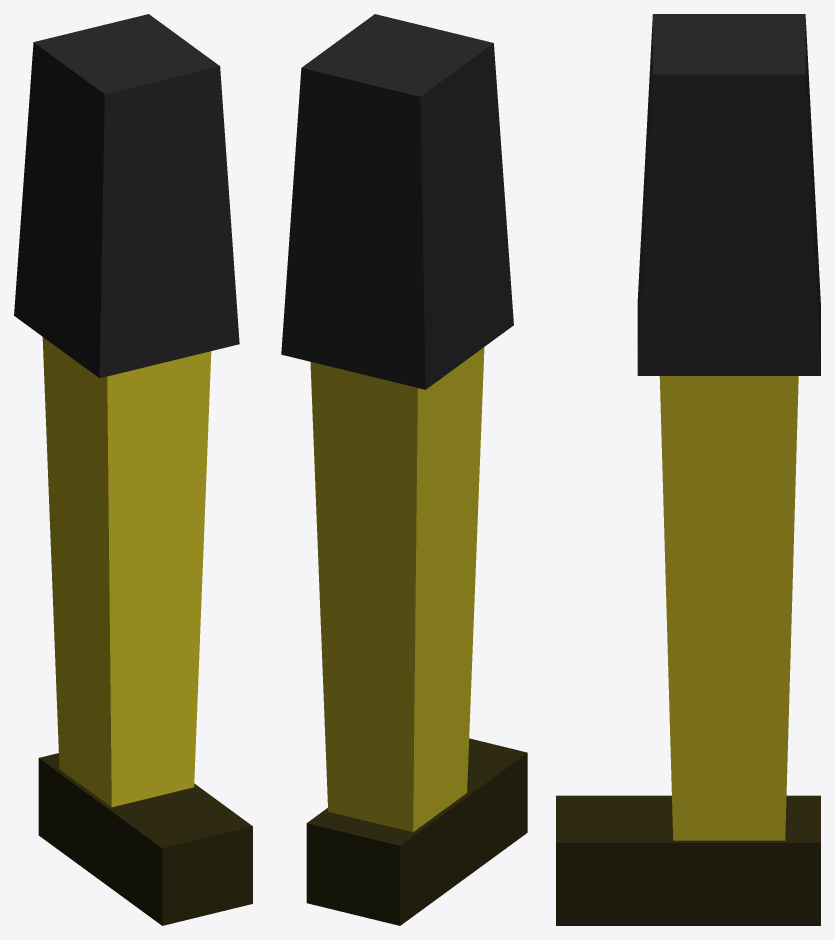
File: leg_k20.glb
3 renders of one model, left to right at view 1: azimuth 30°, elevation 25°; view 2: azimuth 150°, elevation 25°; view 3: azimuth 270°, elevation 25°, orthographic. The views are drawn at different scales.
Parts seen in each view (by area): view 1: leg_kit; view 2: leg_kit; view 3: leg_kit.
Part boxes in pixels (<box>): leg_kit: <box>14,14,252,925</box>; leg_kit: <box>281,14,527,925</box>; leg_kit: <box>556,14,820,925</box>.
Bounding box in the file's own units: 0.17 × 0.93 × 0.26.
